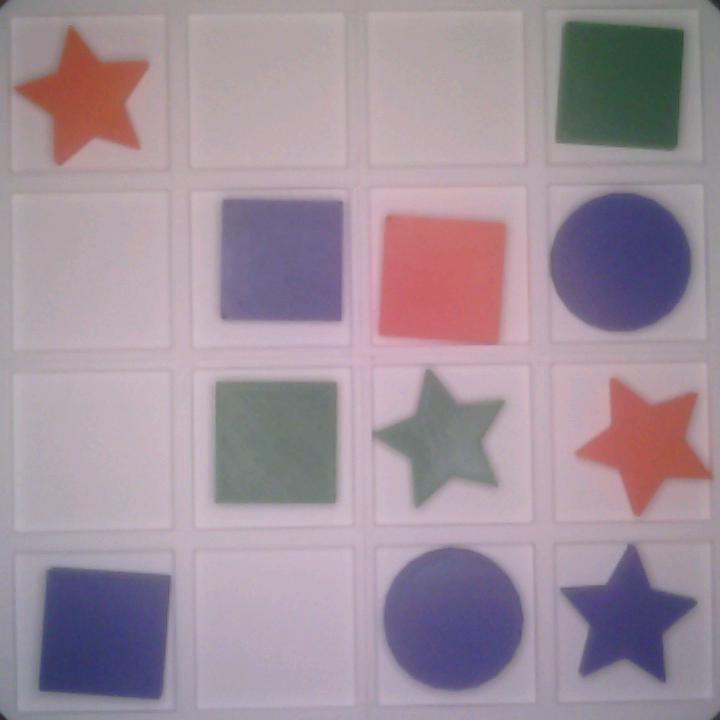Blue circle: (381, 546, 522, 690), (547, 192, 691, 332)
Blue square: (35, 563, 172, 705), (218, 197, 346, 325)
Blue star: (564, 546, 695, 690)
Green square: (556, 17, 685, 154), (211, 378, 338, 505)
Green star: (371, 367, 511, 512)
Orange square: (376, 206, 514, 340)
Orange star: (573, 372, 710, 517), (14, 25, 151, 165)
